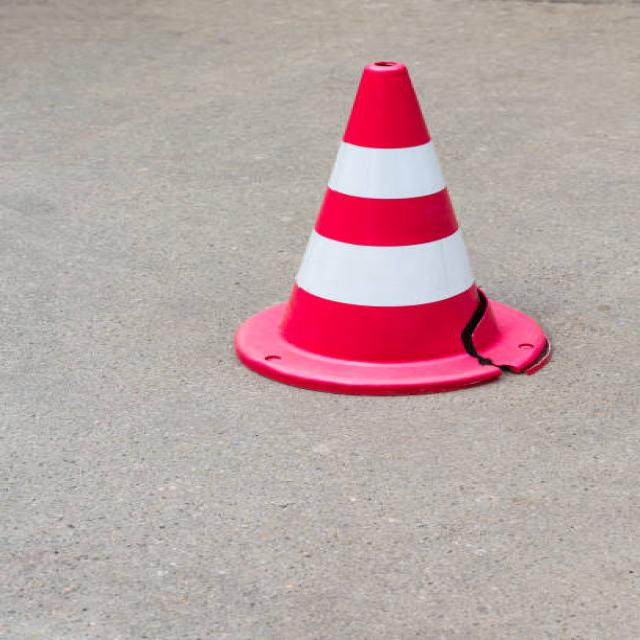Traffic Cone: (183, 7, 607, 488)
